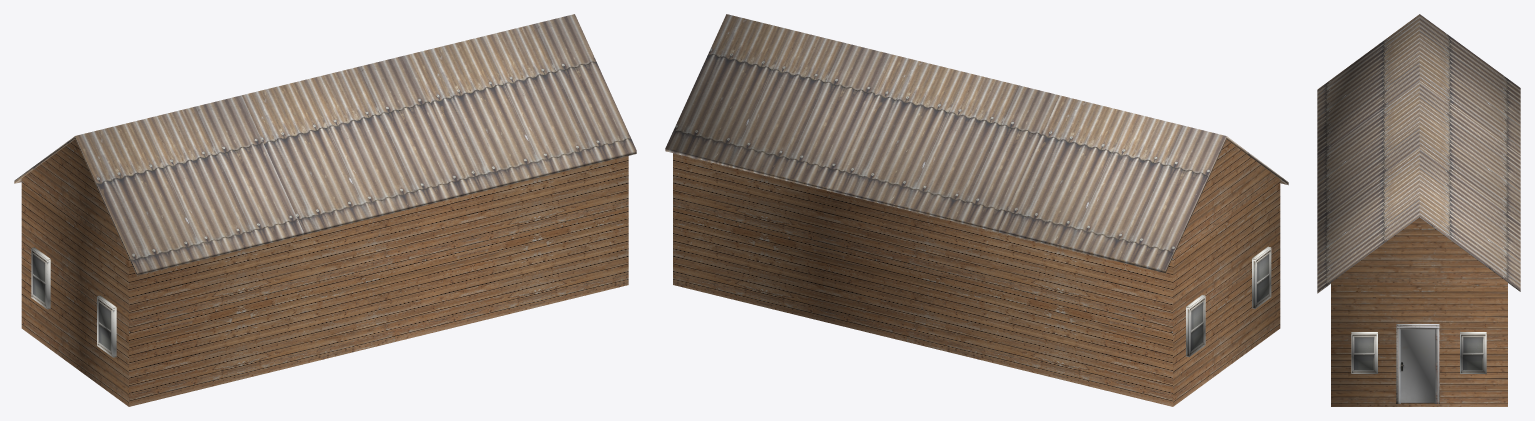
File: house.fbx
The picture shows the model from 3 angles, left to right: view 1: azimuth 30°, elevation 25°; view 2: azimuth 150°, elevation 25°; view 3: azimuth 270°, elevation 25°; orthographic projection. The views are drawn at different scales.
Parts seen in each view (by area): view 1: house; view 2: house; view 3: house.
Part boxes in pixels (x1,y1,x2,y2): house: [14, 14, 636, 406]; house: [665, 14, 1288, 406]; house: [1317, 14, 1520, 406].
Bounding box in the file's own units: 349 × 152 × 146.
